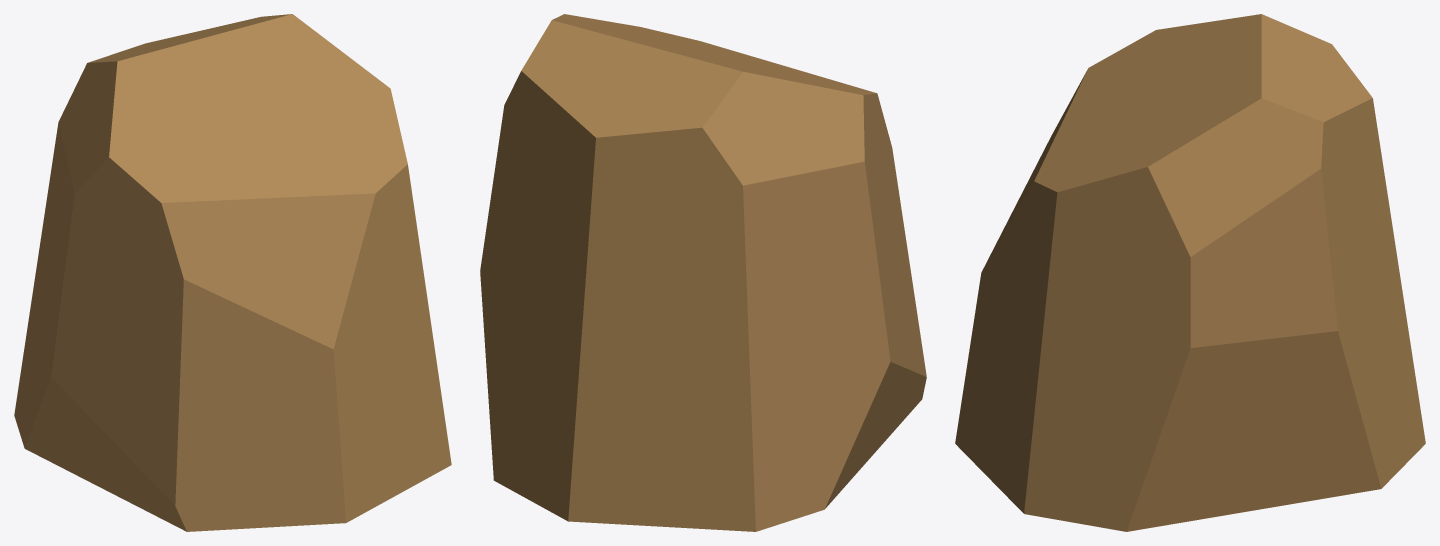
File: roca10.fbx
3 views of the same model, side by side, from view 1: azimuth 30°, elevation 25°; view 2: azimuth 150°, elevation 25°; view 3: azimuth 270°, elevation 25° (orthographic). The views are drawn at different scales.
Parts seen in each view (by area): view 1: small_rock_03_Cylinder_002; view 2: small_rock_03_Cylinder_002; view 3: small_rock_03_Cylinder_002.
Part boxes in pixels (x1,y1,x2,y2): small_rock_03_Cylinder_002: (14,14,451,531); small_rock_03_Cylinder_002: (480,14,926,531); small_rock_03_Cylinder_002: (955,14,1425,531).
Bounding box in the file's own units: 33.49 × 34.01 × 36.91.
